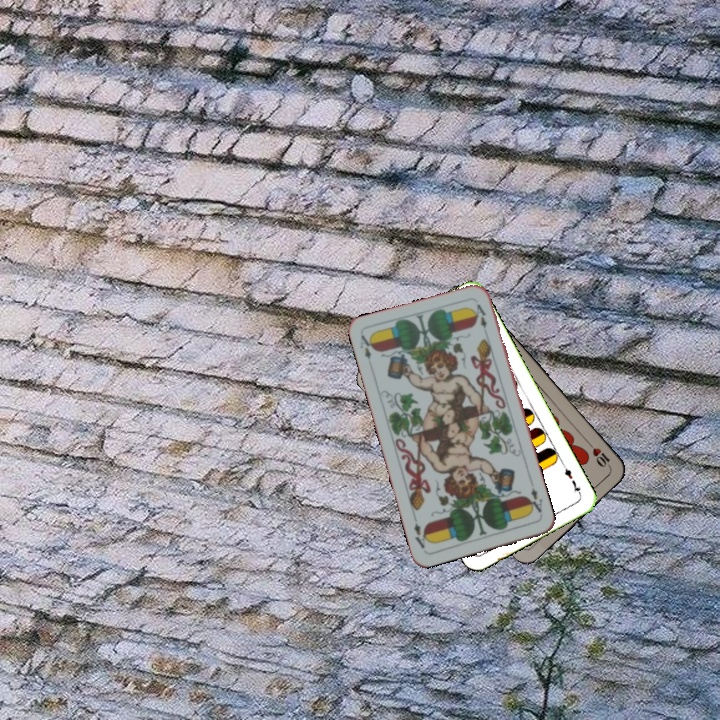E7: (559, 461, 584, 498)
EA: (524, 484, 545, 518), (356, 331, 377, 362)
H10: (583, 437, 614, 471)
